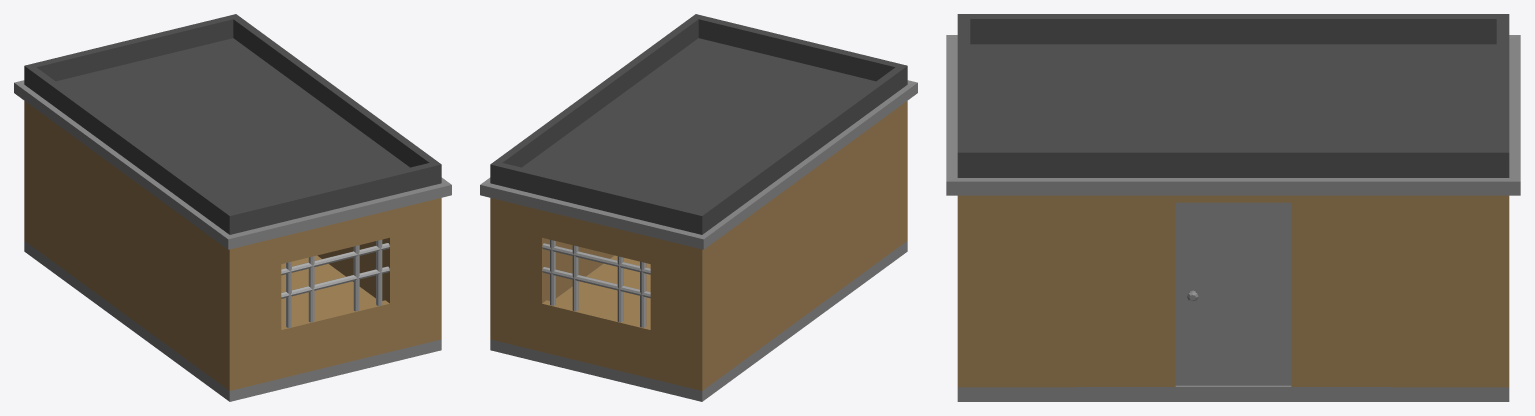
Rendered from Guard House.fbx.
3 views of the same model, side by side, from view 1: azimuth 30°, elevation 25°; view 2: azimuth 150°, elevation 25°; view 3: azimuth 270°, elevation 25° (orthographic). The views are drawn at different scales.
Visible parts, largest first — view 1: Cube, Metal Bars.011, Metal Bars.010, Metal Bars.003, Metal Bars.002, Metal Bars.001; view 2: Cube, Metal Bars.009, Metal Bars.008, Metal Bars.006, Metal Bars.005, Metal Bars.004; view 3: Cube.
Boxes of the visible parts, x1,y1,x2,y2 form: Cube: (14,14,451,401); Metal Bars.011: (281,243,389,275); Metal Bars.010: (281,266,389,298); Metal Bars.003: (376,239,382,305); Metal Bars.002: (353,245,359,311); Metal Bars.001: (308,256,314,322); Cube: (480,14,917,401); Metal Bars.009: (542,243,650,274); Metal Bars.008: (542,267,650,298); Metal Bars.006: (572,245,578,311); Metal Bars.005: (617,256,623,322); Metal Bars.004: (640,261,646,327); Cube: (946,14,1520,401).
Size of the model in its own units: 993 by 788 by 1646.
